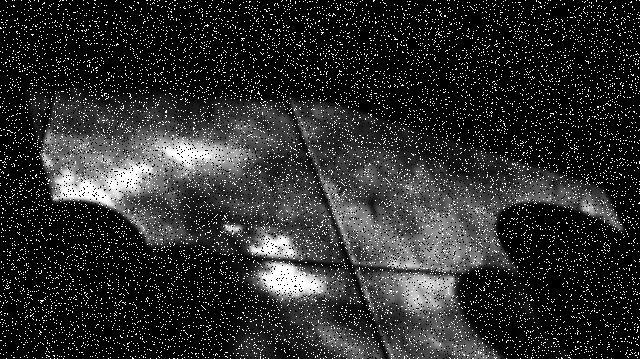pot: (54, 199, 198, 359), (496, 202, 640, 359)
